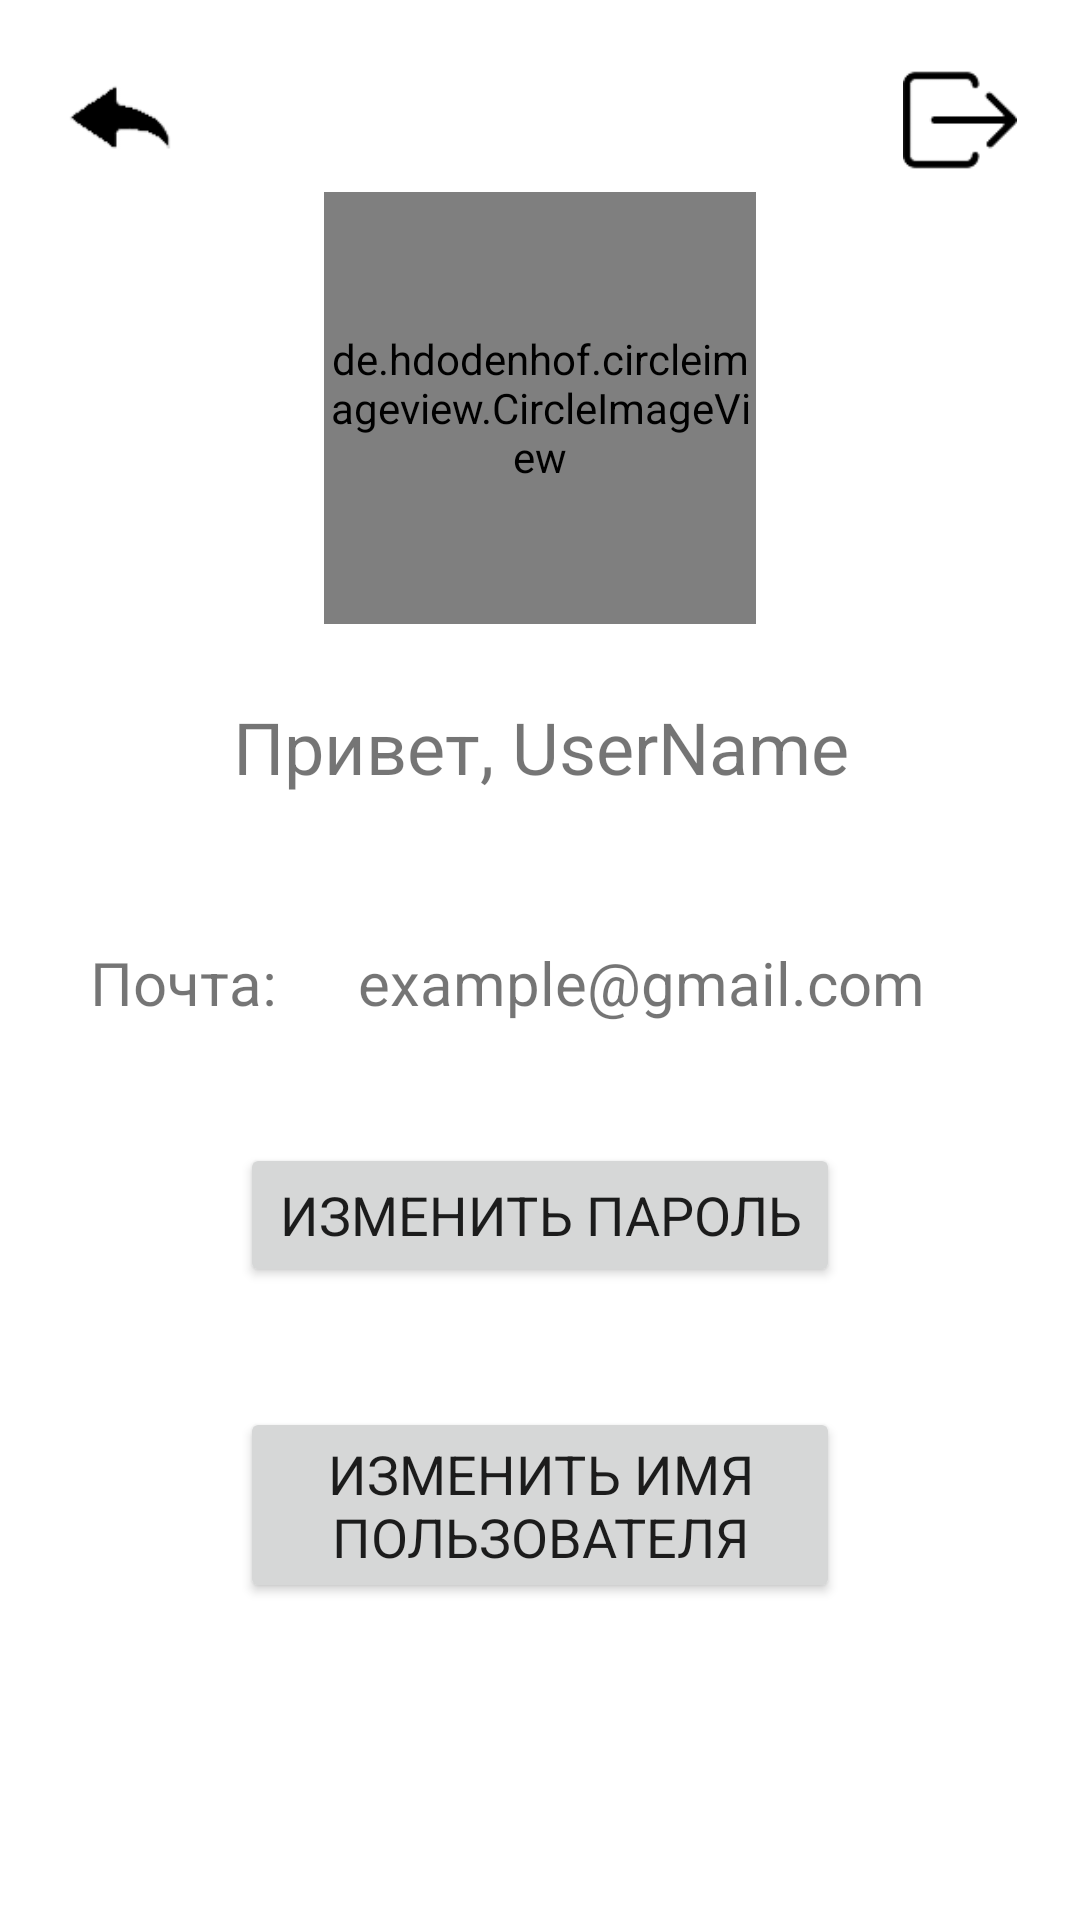

Icons on this 1080px×1920px Android screen, each with the point to tap as (x,y):
arrow back: (120,117)
log out: (960,120)
